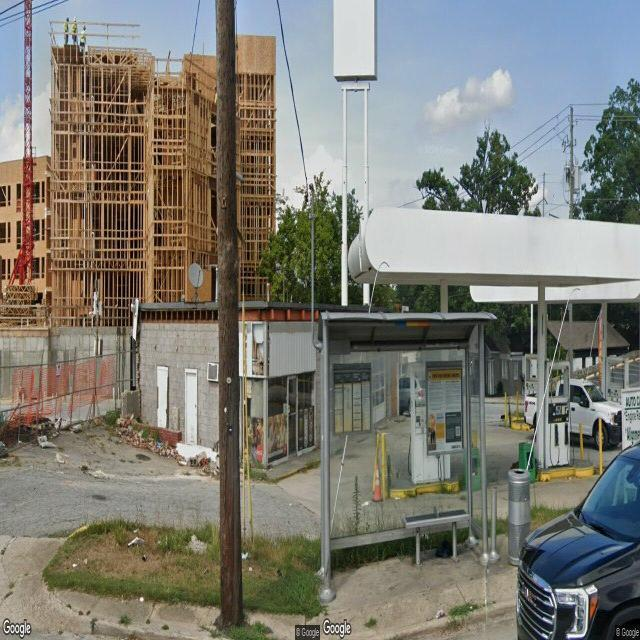seating: (402, 506, 468, 570)
shelter: (318, 310, 500, 608)
trash_can: (507, 466, 531, 564)
